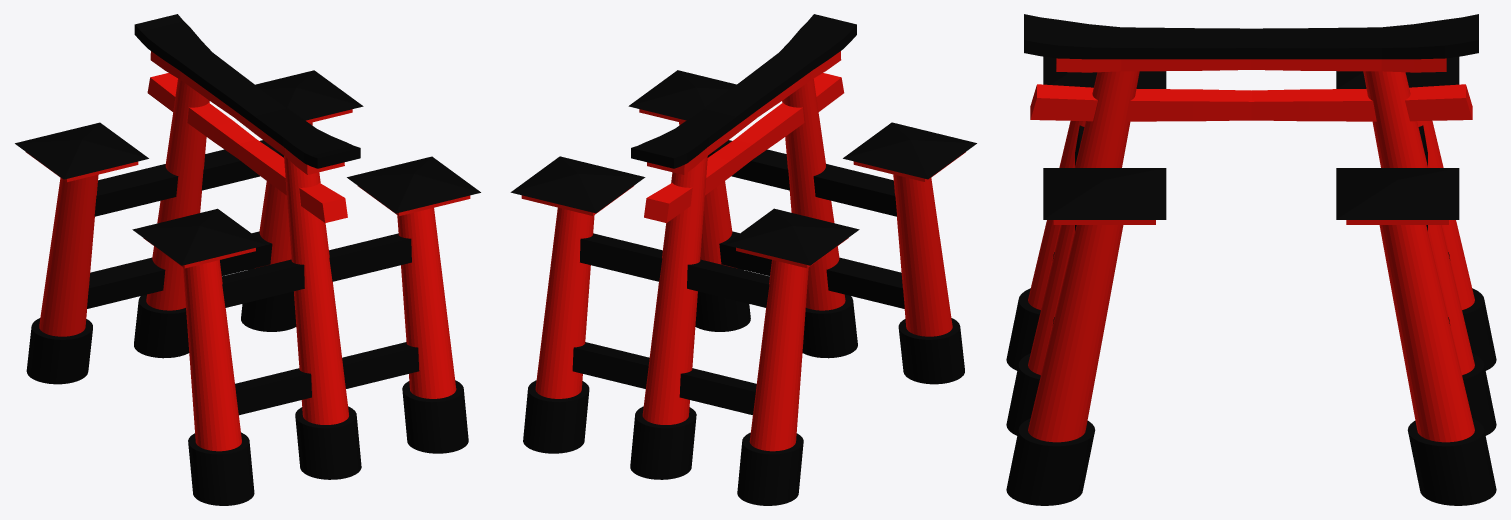
The model's file is Grande arche 1.1.fbx.
3 renders of one model, left to right at view 1: azimuth 30°, elevation 25°; view 2: azimuth 150°, elevation 25°; view 3: azimuth 270°, elevation 25°, orthographic. The views are drawn at different scales.
Parts seen in each view (by area): view 1: Arche; view 2: Arche; view 3: Arche.
Boxes of the visible parts, x1,y1,x2,y2 form: Arche: (15, 14, 480, 505); Arche: (510, 14, 976, 505); Arche: (1006, 14, 1496, 505).
Bounding box in the file's own units: 420 × 428 × 478.
